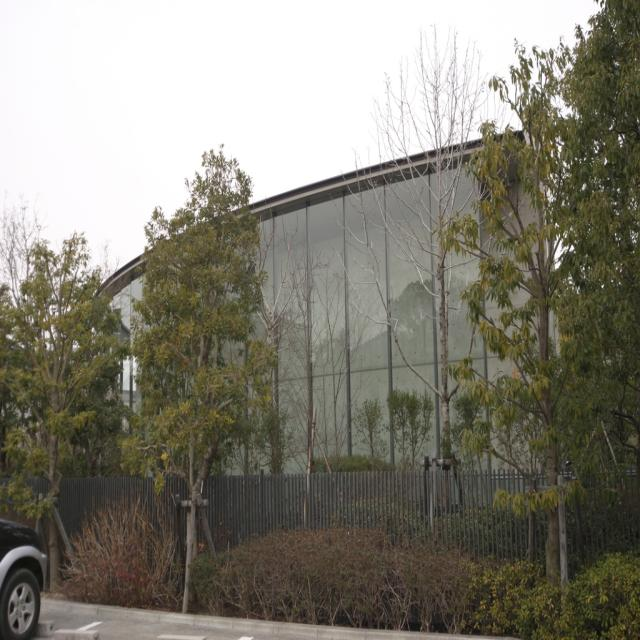car: (0, 500, 60, 638)
